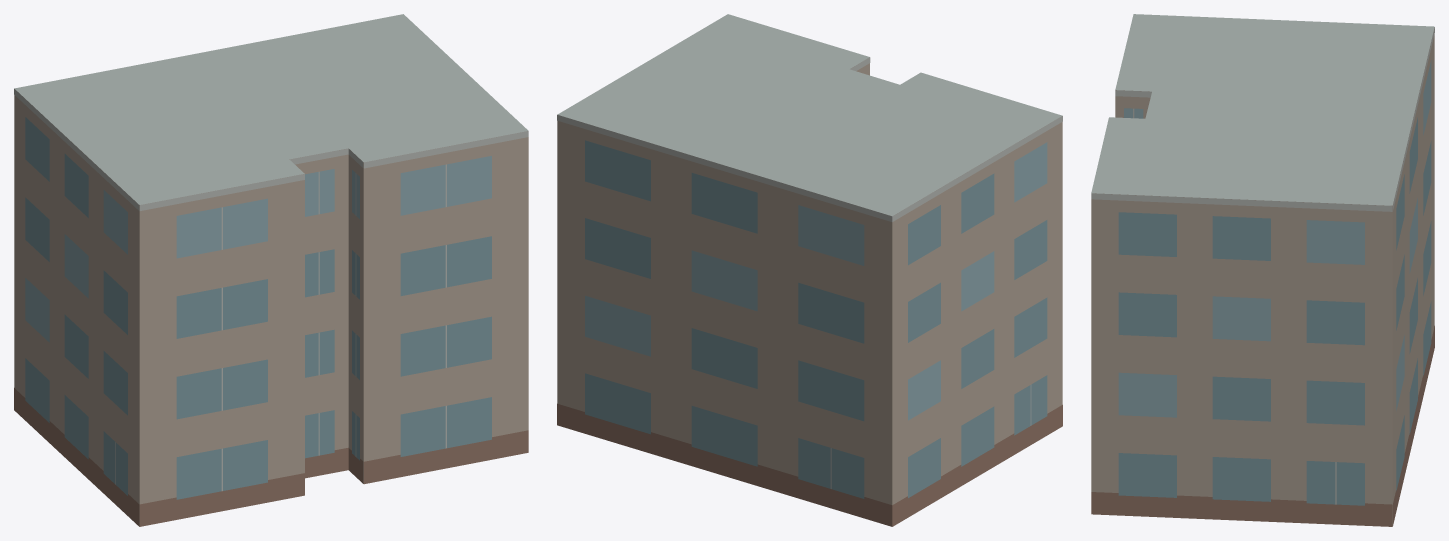
Rendered from survey-upis-32614967.glb.
3 renders of one model, left to right at view 1: azimuth 30°, elevation 25°; view 2: azimuth 150°, elevation 25°; view 3: azimuth 270°, elevation 25°, orthographic. The views are drawn at different scales.
Visible parts, largest first — view 1: survey-upis-32614967.tmp; view 2: survey-upis-32614967.tmp; view 3: survey-upis-32614967.tmp.
Part boxes in pixels (box(x1,y1,x2,y2)): survey-upis-32614967.tmp: box(14, 14, 528, 526); survey-upis-32614967.tmp: box(557, 14, 1062, 526); survey-upis-32614967.tmp: box(1091, 14, 1434, 526).
Size of the model in its own units: 16.41 by 12.8 by 12.42.
